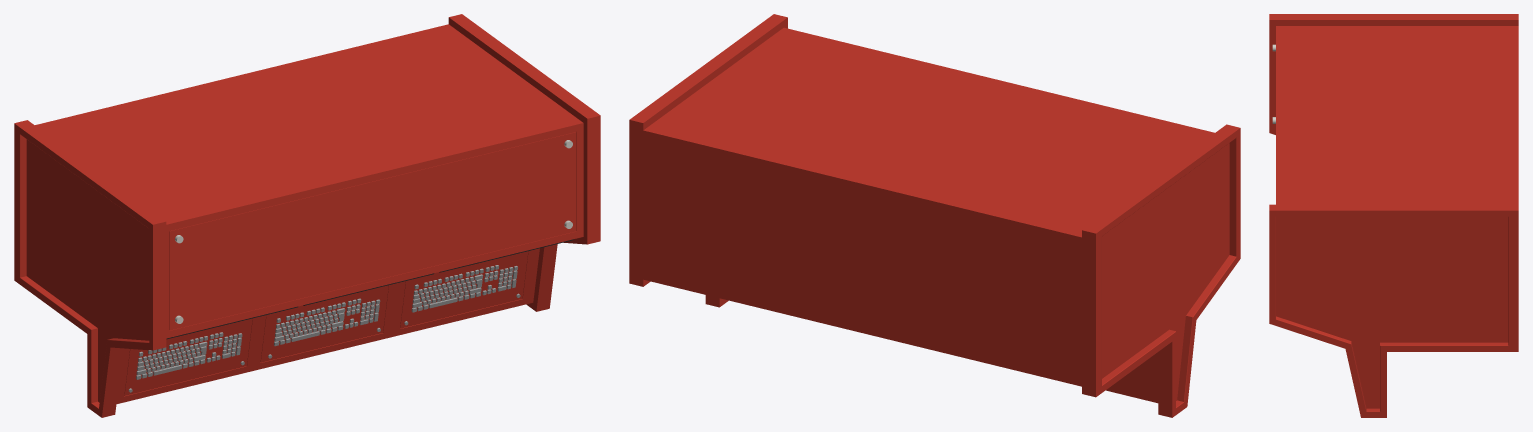
Rendered from NUKE COMPUTER.fbx.
3 renders of one model, left to right at view 1: azimuth 30°, elevation 25°; view 2: azimuth 150°, elevation 25°; view 3: azimuth 270°, elevation 25°, orthographic. The views are drawn at different scales.
Parts seen in each view (by area): view 1: Body6; view 2: Body6; view 3: Body6.
Boxes of the visible parts, bbox=[...] form: Body6: bbox=[14, 14, 600, 417]; Body6: bbox=[629, 14, 1240, 417]; Body6: bbox=[1269, 14, 1518, 417].
Bounding box in the file's own units: 134 × 66 × 72.
